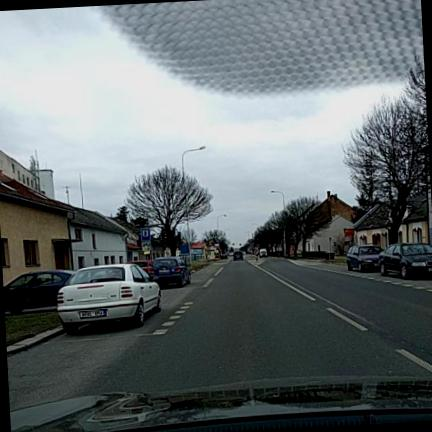Road: (7, 259, 431, 409)
